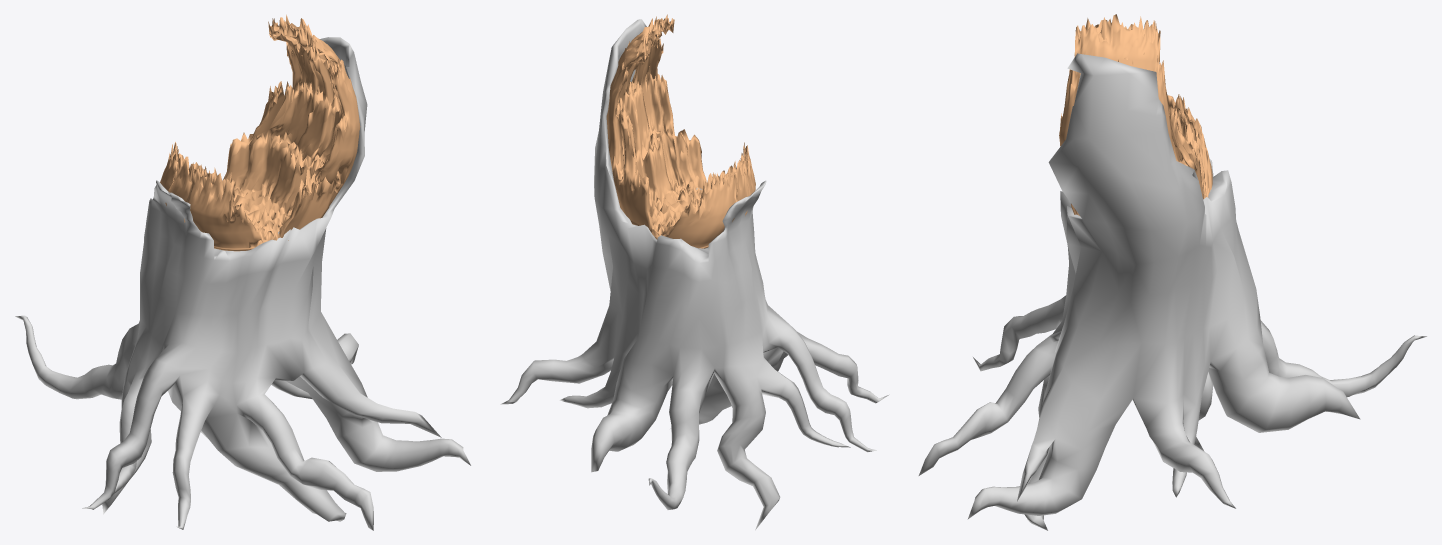
Rendered from ygdrassil2.fbx.
3 views of the same model, side by side, from view 1: azimuth 30°, elevation 25°; view 2: azimuth 150°, elevation 25°; view 3: azimuth 270°, elevation 25° (orthographic). The views are drawn at different scales.
Parts seen in each view (by area): view 1: stump, splintered wood; view 2: stump, splintered wood; view 3: stump, splintered wood.
Boxes of the visible parts, x1,y1,x2,y2 form: stump: (15,37,470,530); splintered wood: (160,14,360,251); stump: (500,19,888,530); splintered wood: (606,14,755,248); stump: (918,53,1426,530); splintered wood: (1059,14,1212,215).
Size of the model in its own units: 6824 by 9321 by 8174.
